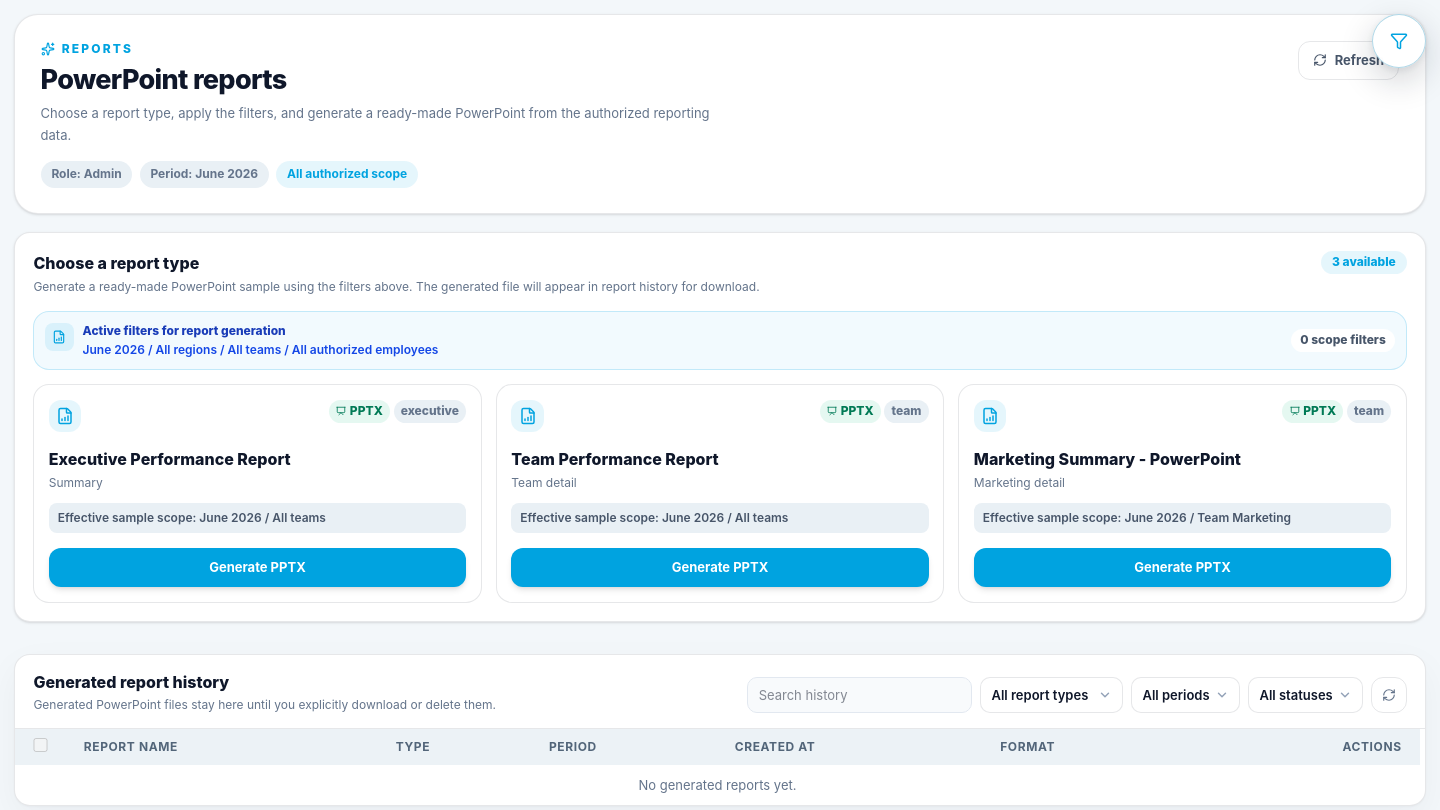
ReportsView › renders backend templates and the authorized reporting period
The image size is (1440, 810).
Click the button named "Report filters" at x=1399, y=41, box [1372,14,1426,68]
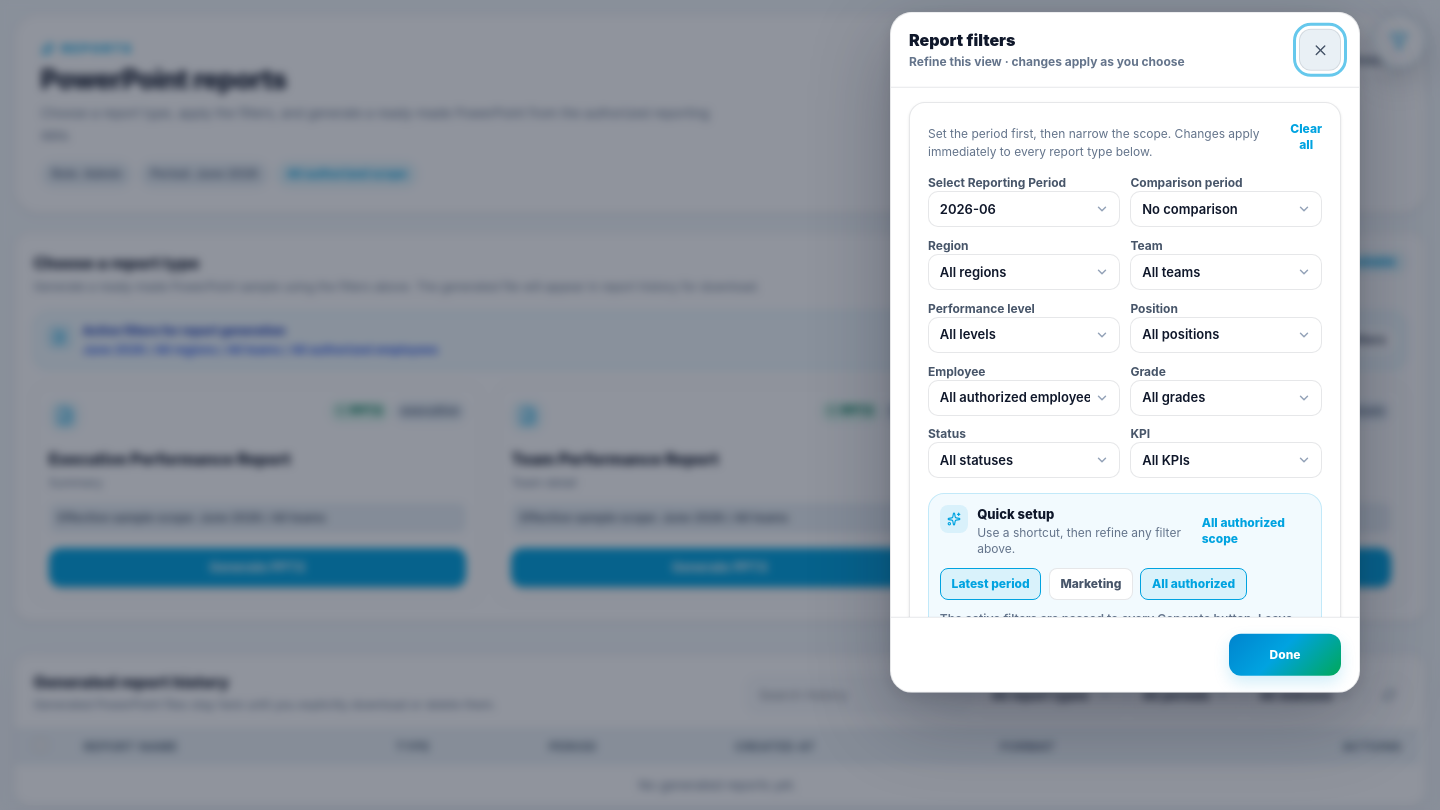
Expected: the heading "PowerPoint reports" is shown, [41,63,286,96]
Expected: the dropdown labelled "Select Reporting Period" shows "2026-06", [928,191,1120,227]
Expected: the heading "Report filters" is shown, [909,30,1015,50]
